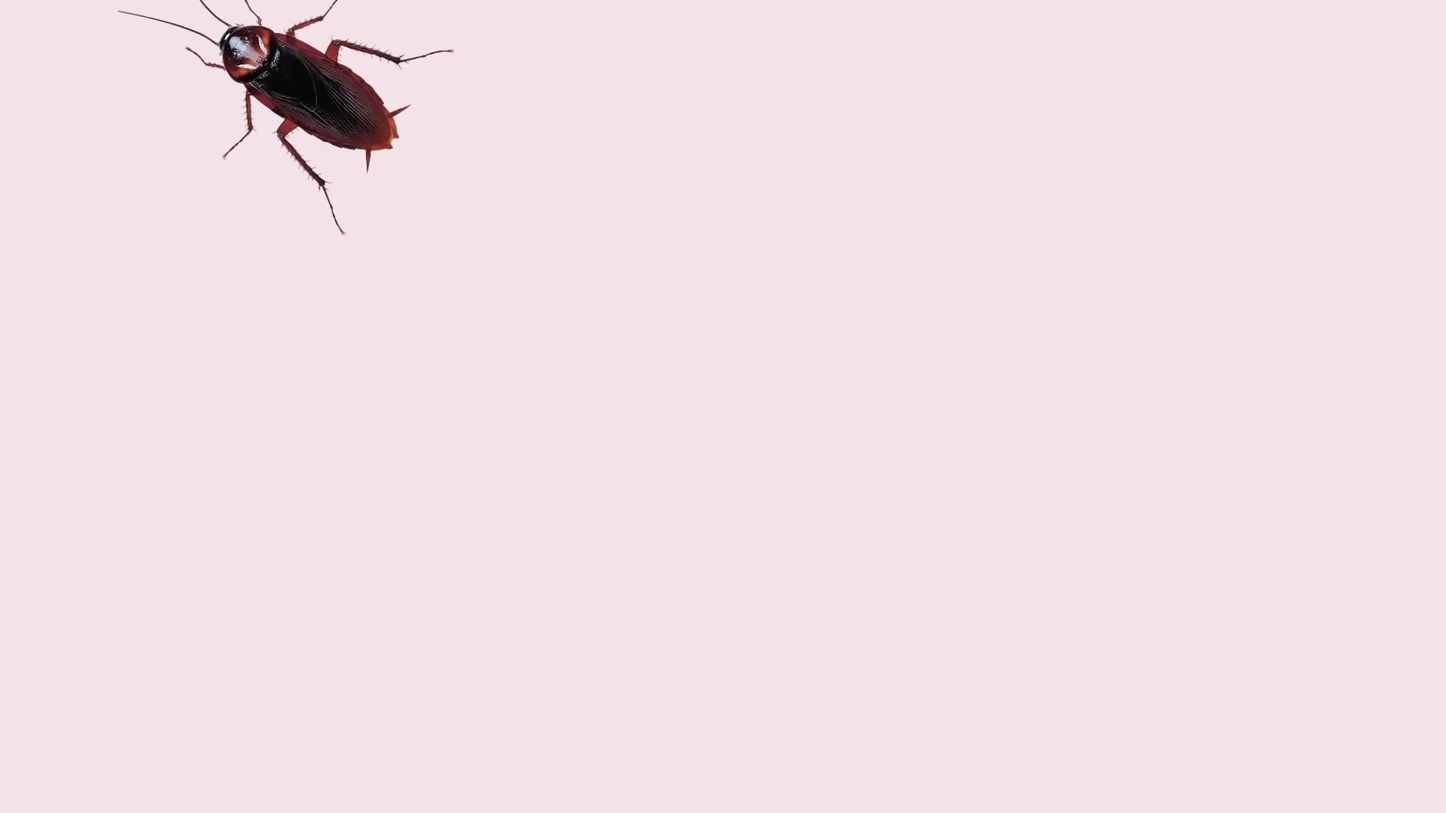cockroach: (110, 0, 454, 215)
